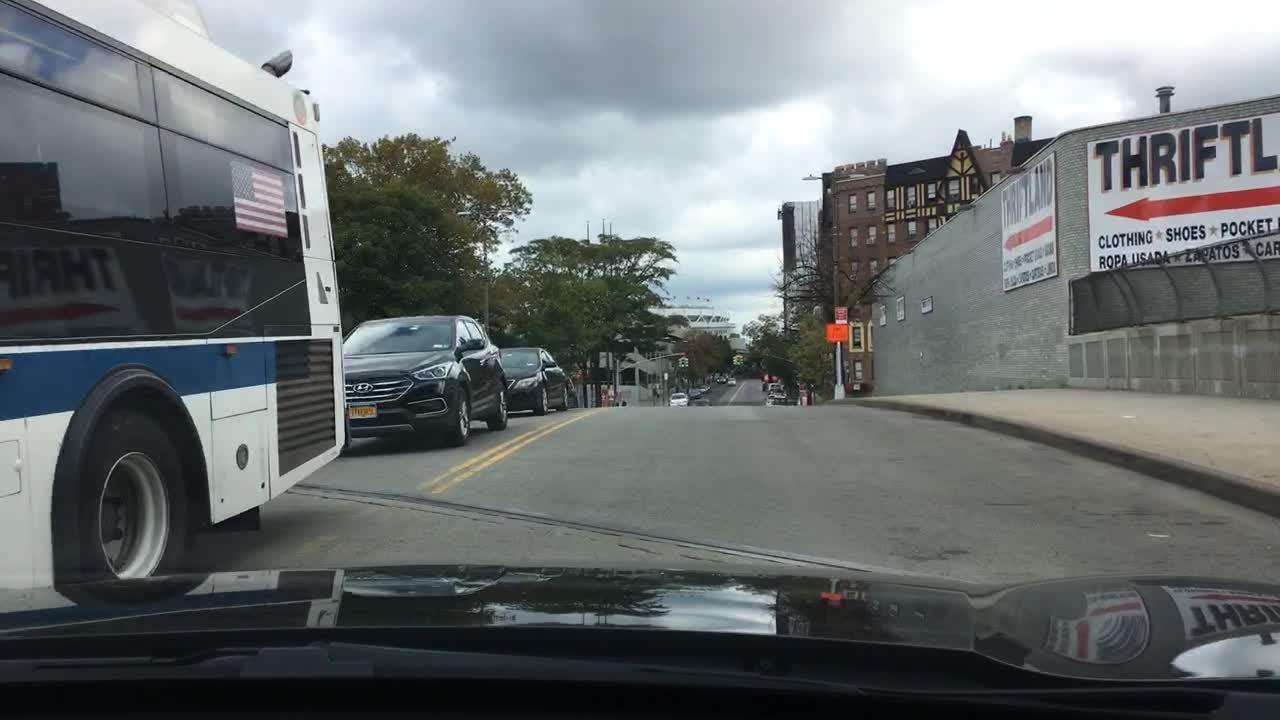Hyundai: (349, 375, 382, 400)
